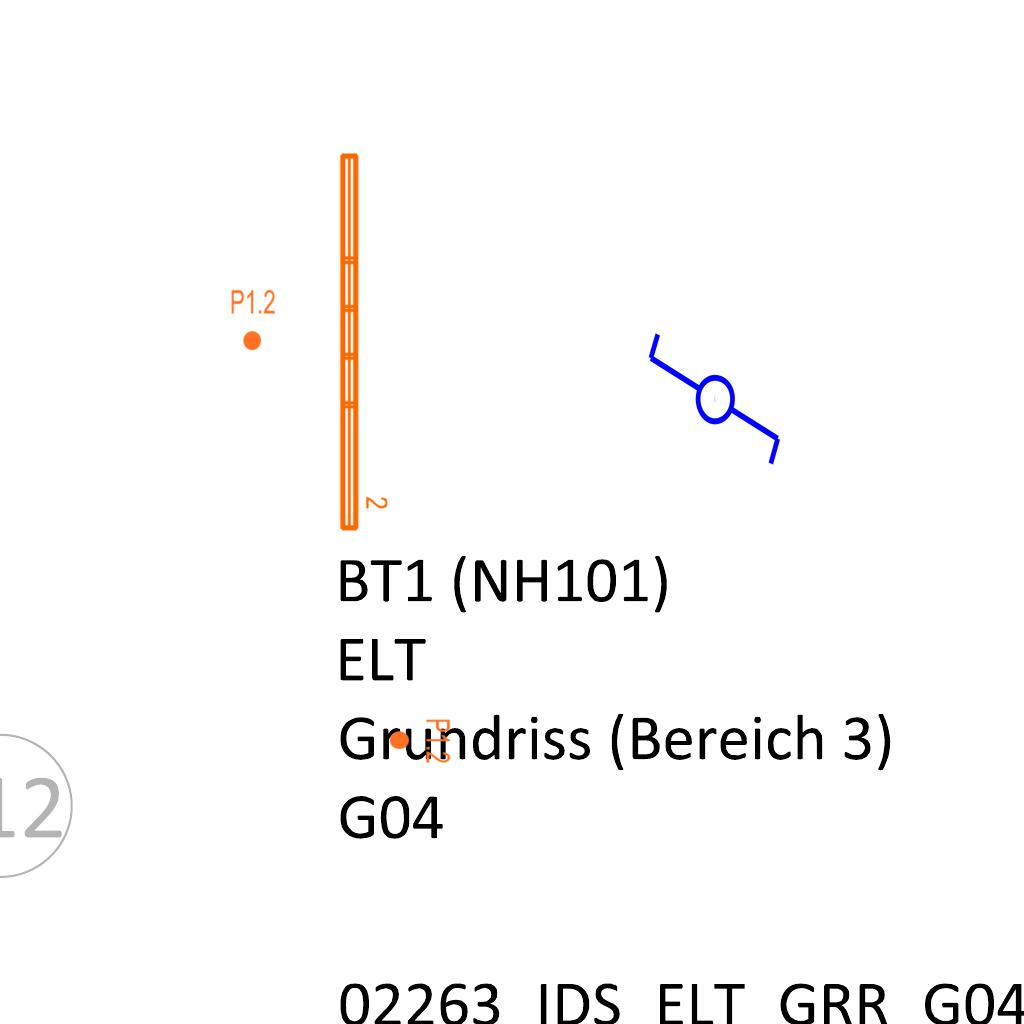Ambulanz_Pendelleuchte_LED: (334, 148, 390, 535)
Downlight_LED_Einbauleuchten_Flur: (230, 288, 276, 352), (388, 718, 452, 764)
Wechselschalter: (641, 329, 785, 486)
